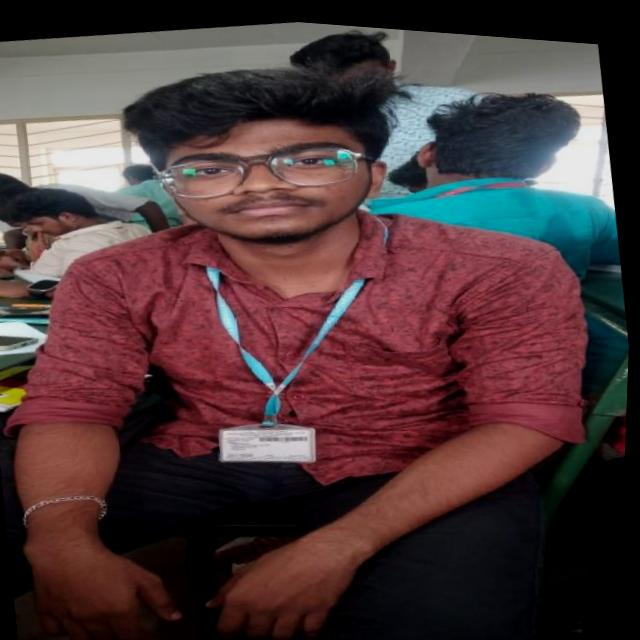id_card: (181, 203, 422, 482)
